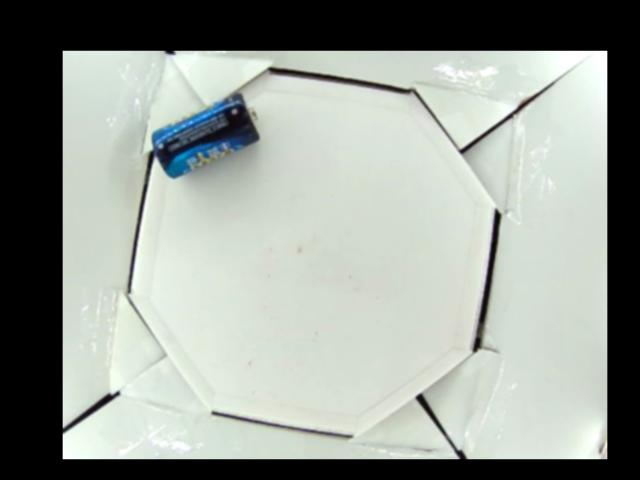Battery: (150, 92, 258, 180)
